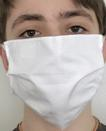with_mask: (2, 1, 106, 131)
